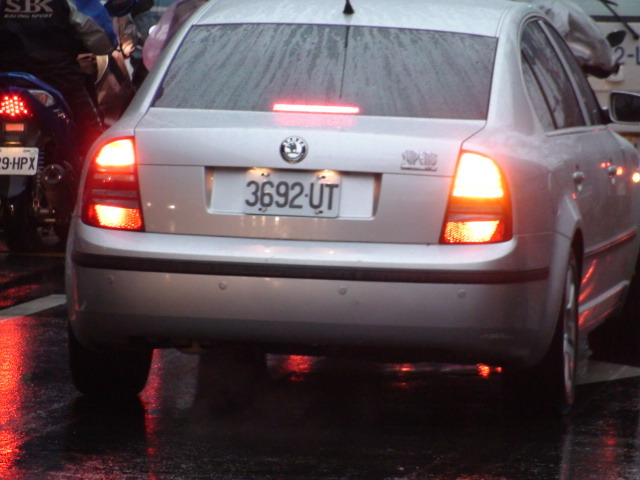plate: (240, 167, 344, 222), (0, 146, 44, 179)
